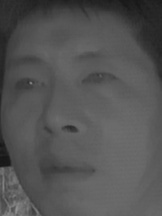eye: (80, 69, 122, 91), (12, 74, 49, 97)
mouth: (36, 152, 97, 187)
